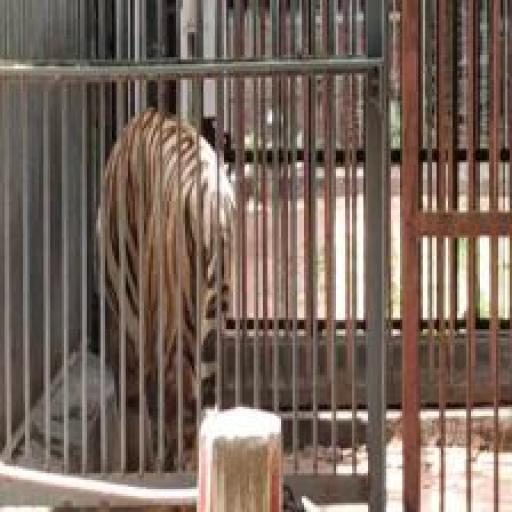Tiger: (80, 78, 287, 409)
